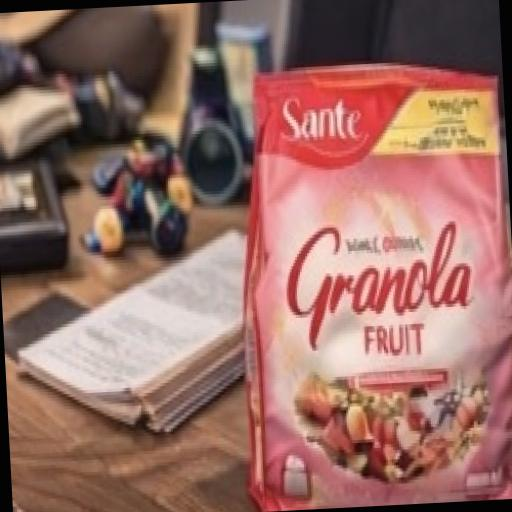granola: (204, 42, 512, 512)
